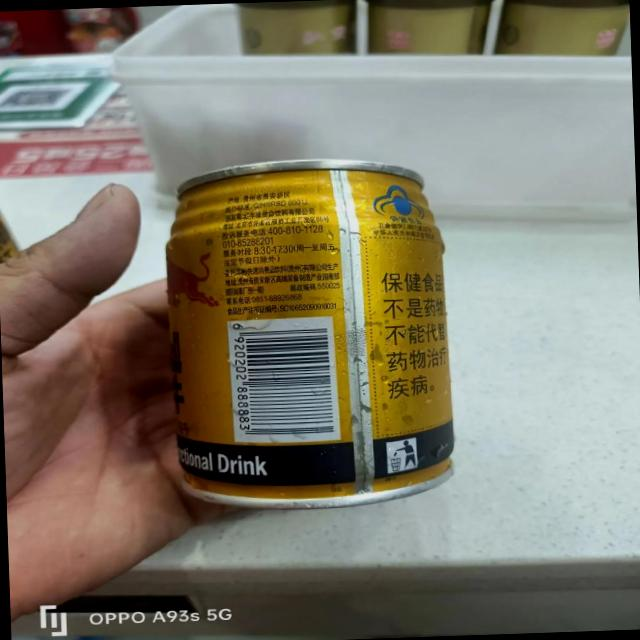can: (153, 151, 464, 518)
